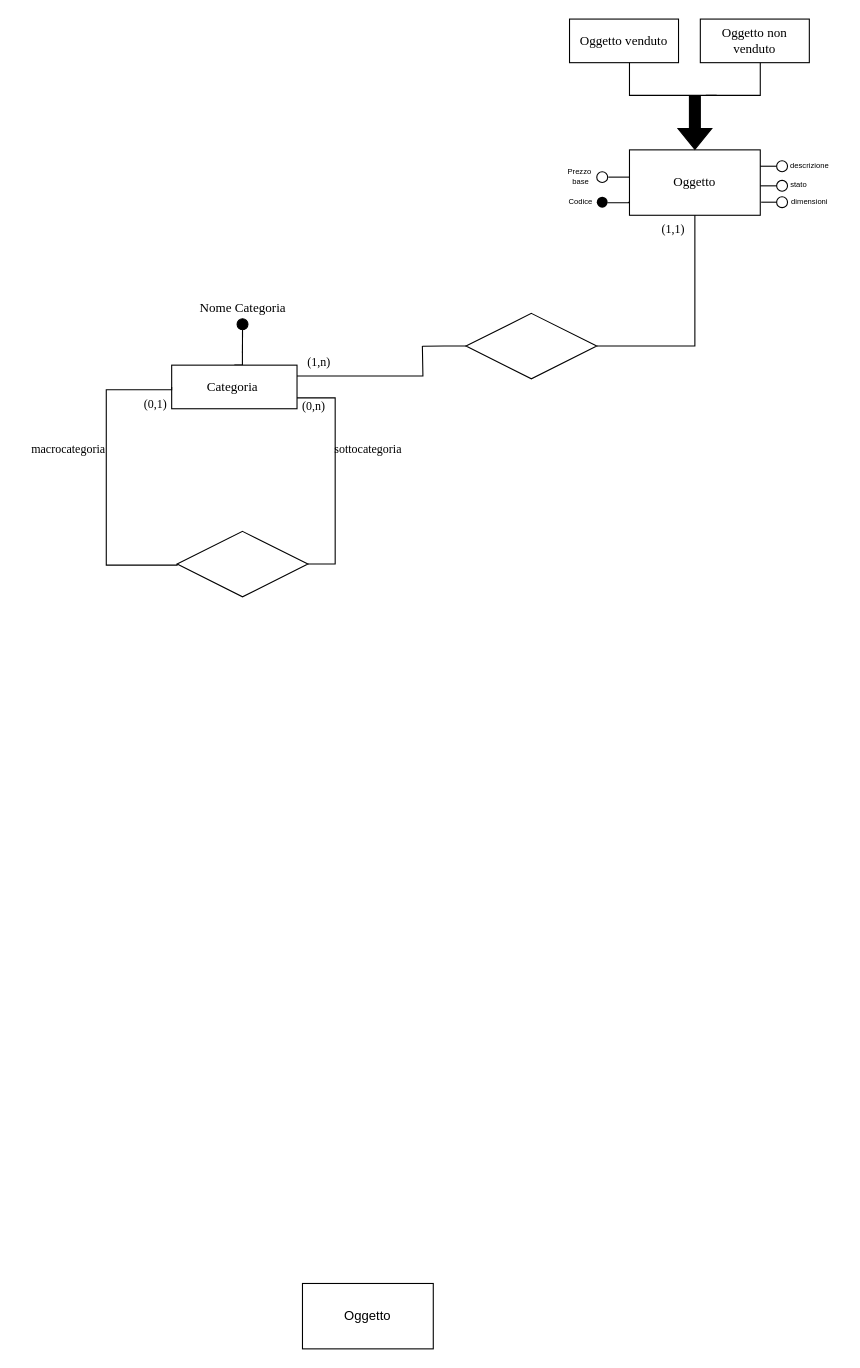
Some shapes in this 860 by 1368 pixel diagram are drawn without their labels. The shapes that lost their labels are listed below. From the top down, each one's centre as x and y in pixels, then its label:
At (531,345): "Appartenenza".
At (242,563): "Gerarchia".
